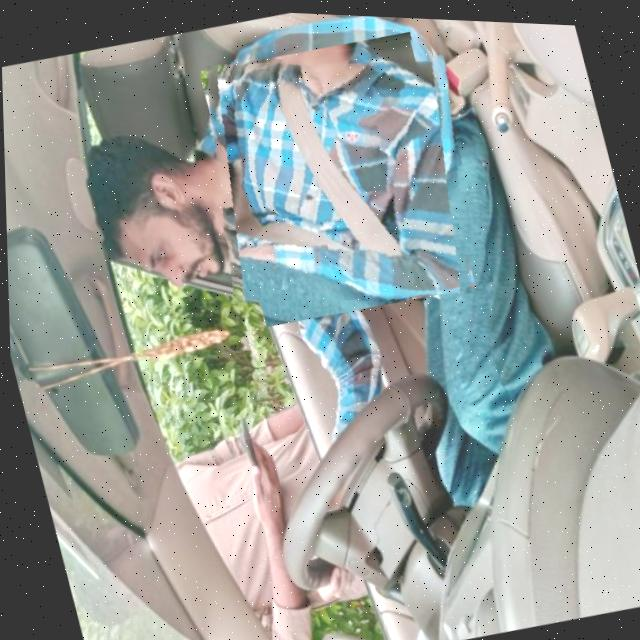seatbelt: (182, 17, 493, 332)
